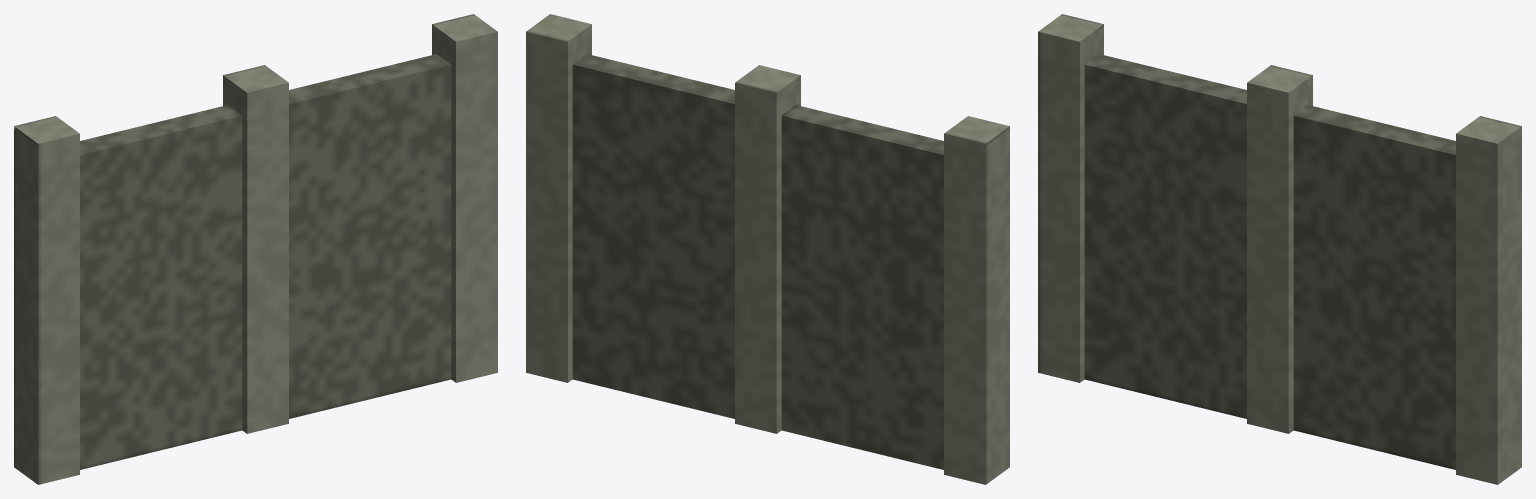
The model's file is murek_2.dae.
The picture shows the model from 3 angles, left to right: view 1: azimuth 30°, elevation 25°; view 2: azimuth 150°, elevation 25°; view 3: azimuth 330°, elevation 25°; orthographic projection.
Visible parts, largest first — view 1: Content; view 2: Content; view 3: Content.
Part boxes in pixels (bbox=[...]): Content: bbox=[14, 14, 497, 484]; Content: bbox=[526, 14, 1009, 484]; Content: bbox=[1038, 14, 1521, 484].
Size of the model in its own units: 55 by 39 by 5.
1 material, 1 textured.
